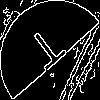T: (25, 25, 74, 79)
